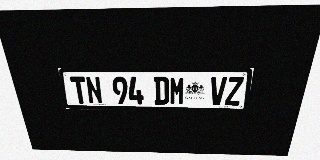4: (127, 77, 144, 104)
9: (112, 77, 129, 104)
D: (154, 77, 169, 105)
M: (170, 77, 185, 105)
N: (85, 77, 103, 104)
T: (70, 76, 89, 104)
V: (209, 77, 227, 105)
Z: (225, 77, 244, 105)
